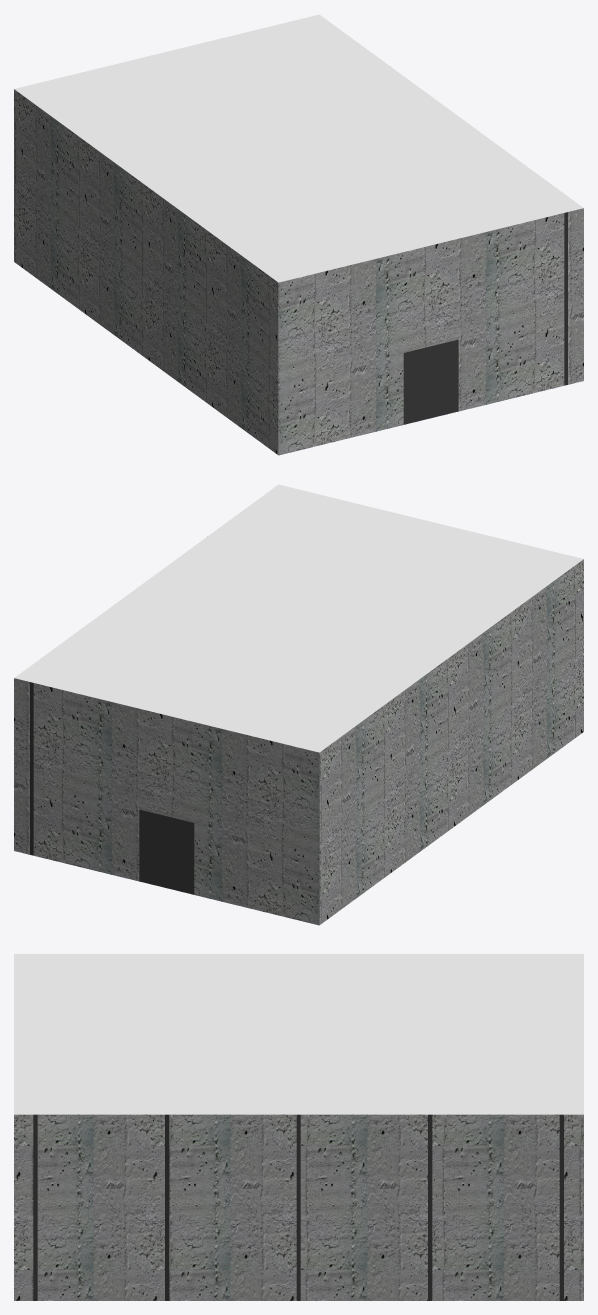
The model's file is Messehalle-leer.fbx.
3 renders of one model, top to bottom at view 1: azimuth 30°, elevation 25°; view 2: azimuth 150°, elevation 25°; view 3: azimuth 270°, elevation 25°, orthographic. The views are drawn at different scales.
Parts seen in each view (by area): view 1: Objekt_33, Objekt_1, Objekt_32, Objekt_7, Objekt_6, Objekt_5; view 2: Objekt_33, Objekt_8, Objekt_32, Objekt_31, Objekt_30, Objekt_29; view 3: Objekt_15, Objekt_33, Objekt_25, Objekt_21, Objekt_22, Objekt_23, Objekt_24.
Boxes of the visible parts, x1=… form: Objekt_33: x1=14, y1=14, x2=583, y2=282; Objekt_1: x1=278, y1=208, x2=583, y2=455; Objekt_32: x1=14, y1=89, x2=278, y2=455; Objekt_7: x1=403, y1=346, x2=431, y2=424; Objekt_6: x1=431, y1=339, x2=458, y2=417; Objekt_5: x1=564, y1=212, x2=567, y2=385; Objekt_33: x1=14, y1=484, x2=583, y2=752; Objekt_8: x1=14, y1=678, x2=319, y2=925; Objekt_32: x1=319, y1=559, x2=583, y2=925; Objekt_31: x1=166, y1=816, x2=194, y2=894; Objekt_30: x1=139, y1=809, x2=166, y2=887; Objekt_29: x1=30, y1=682, x2=33, y2=855; Objekt_15: x1=14, y1=1114, x2=583, y2=1300; Objekt_33: x1=14, y1=954, x2=583, y2=1114; Objekt_25: x1=33, y1=1114, x2=37, y2=1300; Objekt_21: x1=559, y1=1114, x2=563, y2=1300; Objekt_22: x1=428, y1=1114, x2=432, y2=1300; Objekt_23: x1=296, y1=1114, x2=300, y2=1300; Objekt_24: x1=165, y1=1114, x2=169, y2=1300.
Size of the model in its own units: 22211 by 33312 by 12010.
6 materials, 1 textured.
